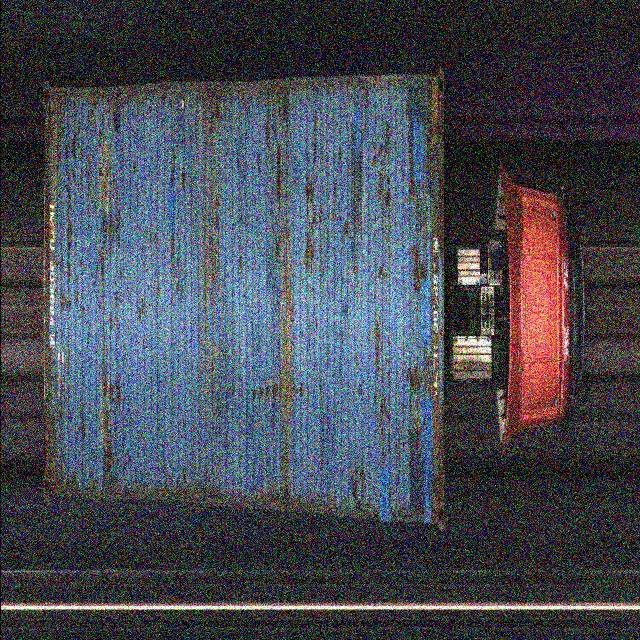Rusty: (373, 137, 393, 245), (47, 115, 55, 311), (434, 359, 445, 468), (408, 356, 433, 403), (72, 101, 85, 188), (334, 187, 349, 248), (410, 244, 427, 297), (100, 127, 111, 207), (47, 347, 54, 468), (380, 394, 392, 462), (305, 210, 317, 274), (407, 135, 417, 206), (352, 462, 365, 508), (255, 380, 282, 402), (68, 179, 74, 277), (439, 166, 445, 262), (104, 374, 111, 454), (286, 255, 294, 323), (172, 235, 180, 299), (376, 315, 384, 377), (431, 116, 444, 153), (111, 283, 120, 334), (415, 412, 426, 452), (58, 99, 62, 206), (293, 379, 311, 402), (306, 173, 316, 211), (112, 380, 123, 414), (421, 193, 429, 237), (62, 286, 73, 314), (80, 401, 87, 444), (277, 146, 282, 201), (387, 332, 392, 383), (114, 169, 120, 206), (284, 93, 290, 127), (314, 116, 318, 166), (276, 230, 281, 270), (101, 245, 105, 293), (139, 295, 145, 324), (216, 97, 220, 140), (408, 86, 412, 128), (182, 162, 187, 195), (216, 194, 220, 230), (267, 119, 271, 154)
